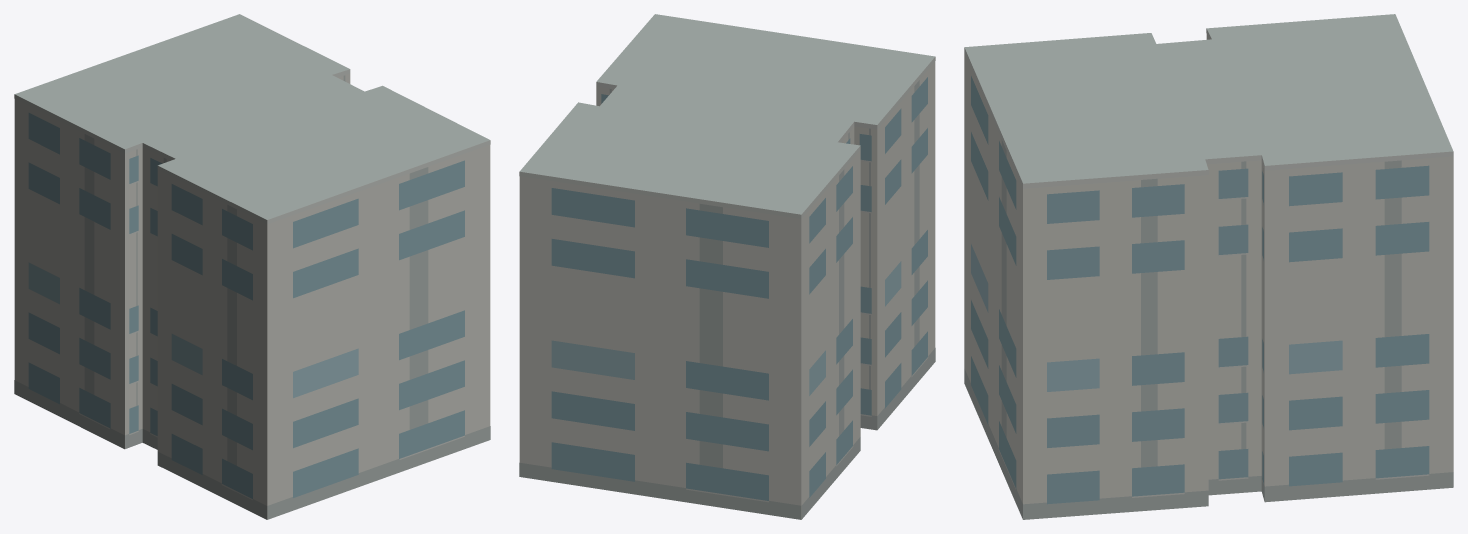
The model's file is survey-upis-32707666.glb.
3 renders of one model, left to right at view 1: azimuth 30°, elevation 25°; view 2: azimuth 150°, elevation 25°; view 3: azimuth 270°, elevation 25°, orthographic. The views are drawn at different scales.
Parts seen in each view (by area): view 1: survey-upis-32707666.tmp; view 2: survey-upis-32707666.tmp; view 3: survey-upis-32707666.tmp.
Part boxes in pixels (left/top/right/bottom): survey-upis-32707666.tmp: left=14, top=14, right=490, bottom=519; survey-upis-32707666.tmp: left=519, top=14, right=935, bottom=519; survey-upis-32707666.tmp: left=964, top=14, right=1453, bottom=519.
Size of the model in its own units: 17.64 by 16.3 by 21.5.
